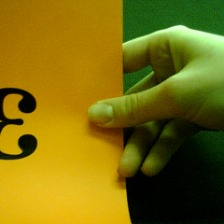orange3: (1, 86, 45, 164)
